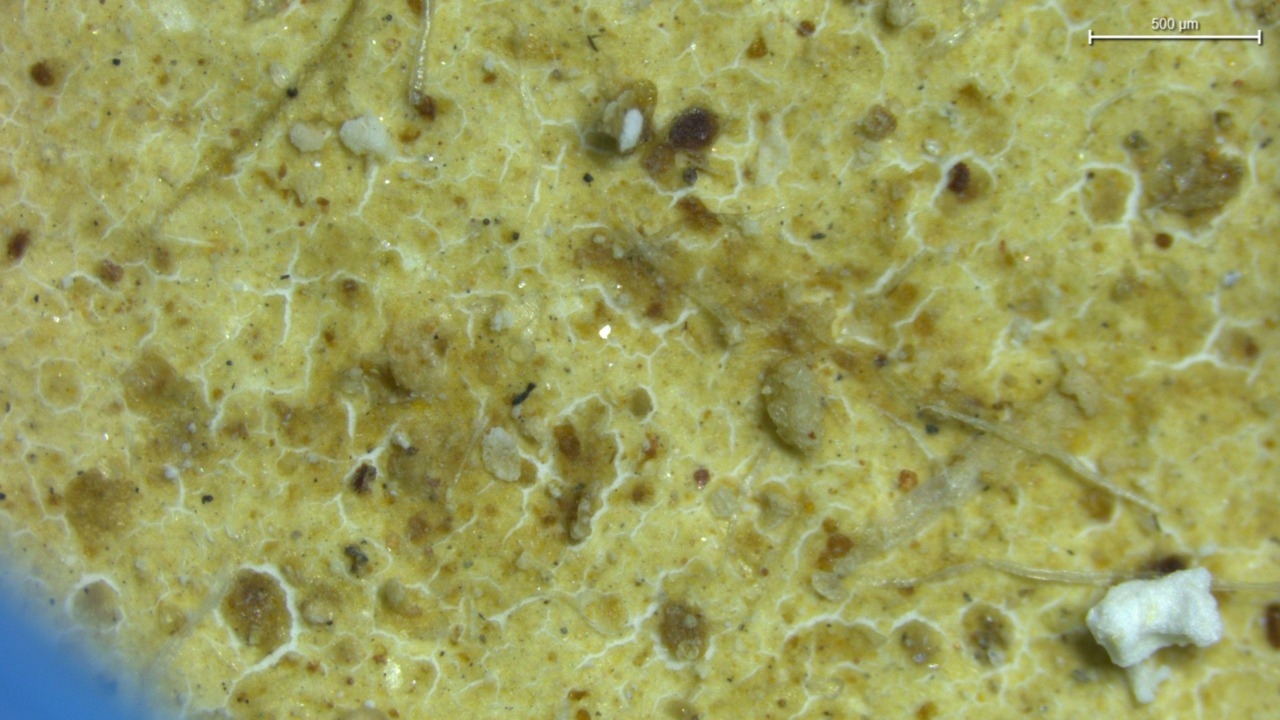microplastic_fragment: (1087, 567, 1224, 668), (761, 358, 825, 453), (339, 113, 389, 154)
